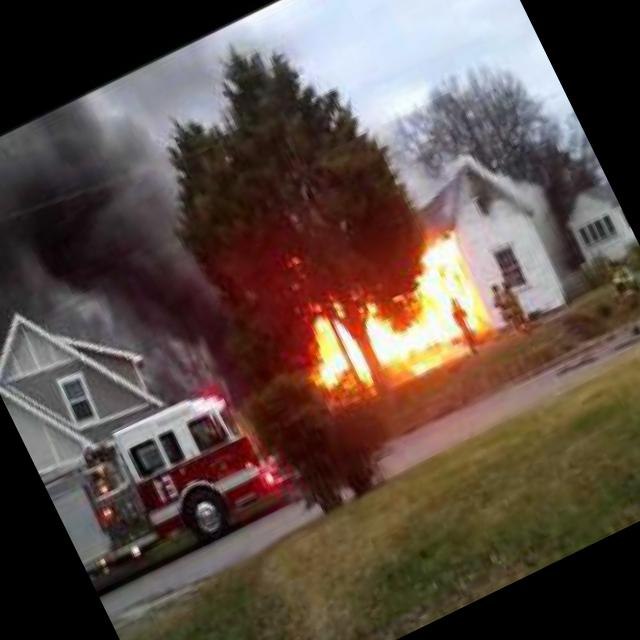fire: (288, 215, 502, 408)
smoke: (0, 67, 259, 403)
